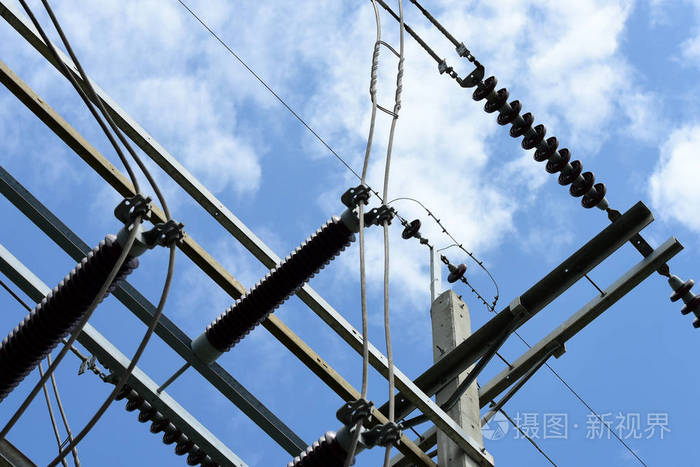insulator: (470, 76, 607, 209), (108, 382, 210, 467), (669, 279, 700, 330)
